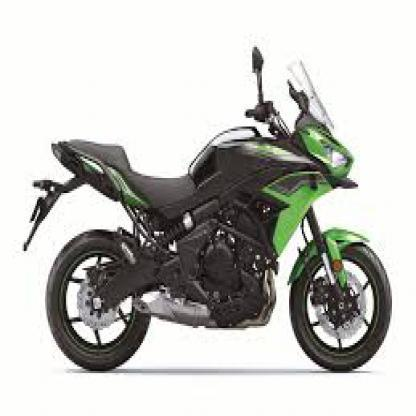Motorcycle: (21, 44, 394, 381)
